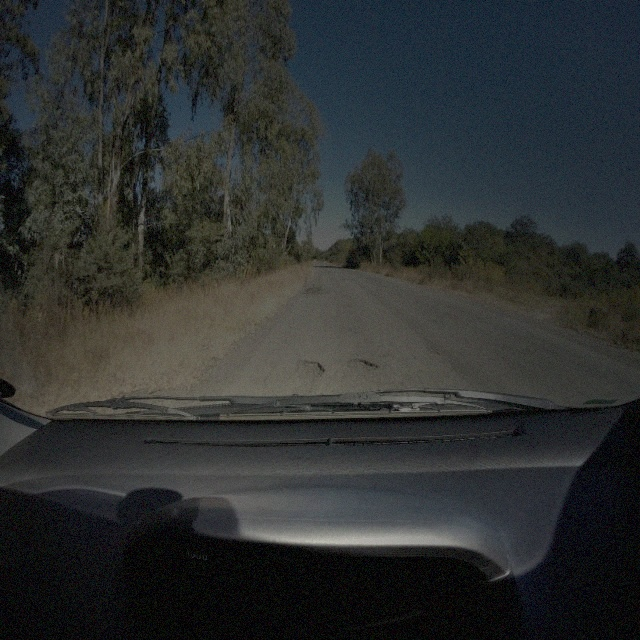pothole: (296, 354, 326, 382), (344, 353, 380, 373)
